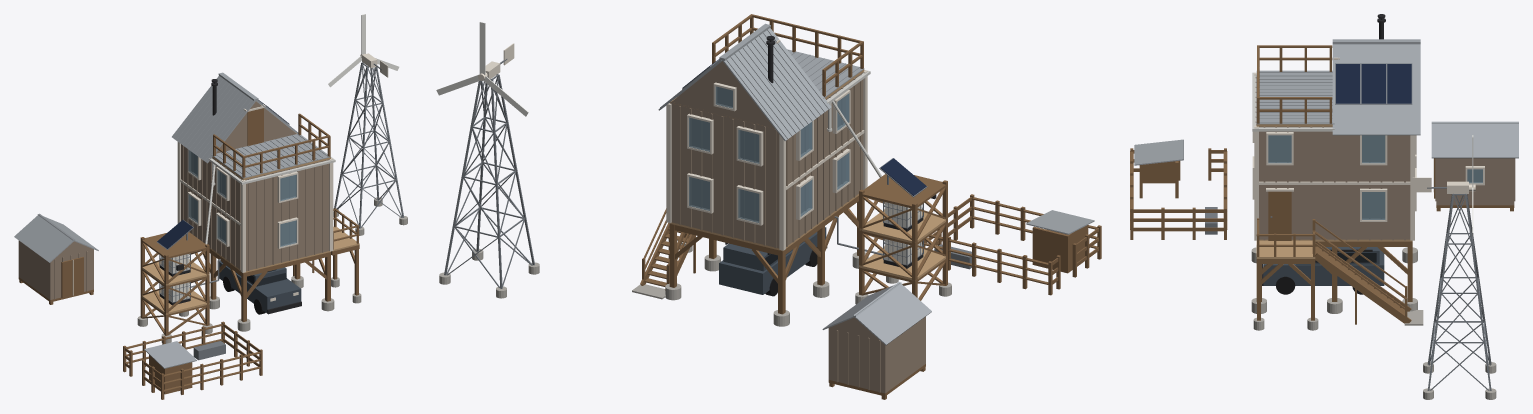
File: 1333-stilt-house.glb
The picture shows the model from 3 angles, left to right: view 1: azimuth 30°, elevation 25°; view 2: azimuth 150°, elevation 25°; view 3: azimuth 270°, elevation 25°; orthographic projection. The views are drawn at different scales.
Visible parts, largest first — view 1: envelope_siding, pen_timber, tower_timber, roof_metal, turbine_steel, envelope_trim, shed_siding, deck_metal, structure_timber, shed_metal, envelope_glass, car_car (+14 smaller); view 2: envelope_siding, roof_metal, pen_timber, envelope_trim, tower_timber, shed_siding, turbine_steel, envelope_glass, structure_timber, shed_metal, roof_siding, car_car (+11 smaller); view 3: envelope_siding, roof_metal, stairs_porch_timber, deck_metal, turbine_steel, pen_timber, shed_metal, shed_siding, solar_roof_solar, envelope_trim, envelope_glass, car_car (+11 smaller).
Part boxes in pixels (x1,y1,x2,y2): envelope_siding: (181, 144, 329, 270); pen_timber: (123, 321, 262, 399); tower_timber: (140, 232, 209, 335); roof_metal: (172, 72, 298, 163); turbine_steel: (334, 62, 404, 228); envelope_trim: (177, 142, 333, 272); shed_siding: (18, 240, 93, 299); deck_metal: (212, 134, 330, 178); structure_timber: (201, 249, 330, 321); shed_metal: (14, 213, 98, 262); envelope_glass: (188, 150, 296, 246); car_car: (219, 261, 301, 313); envelope_siding: (671, 72, 863, 248); roof_metal: (658, 23, 831, 140); pen_timber: (922, 194, 1101, 295); envelope_trim: (666, 70, 867, 250); tower_timber: (859, 174, 947, 300); shed_siding: (828, 316, 925, 393); turbine_steel: (444, 59, 534, 288); envelope_glass: (689, 93, 849, 222); structure_timber: (669, 196, 858, 314); shed_metal: (822, 282, 931, 345); roof_siding: (670, 61, 774, 128); car_car: (719, 227, 826, 294); envelope_siding: (1255, 76, 1410, 240); roof_metal: (1332, 39, 1420, 135); stairs_porch_timber: (1256, 218, 1411, 324); deck_metal: (1256, 70, 1334, 124); turbine_steel: (1427, 187, 1491, 390); pen_timber: (1130, 148, 1227, 239); shed_metal: (1431, 121, 1518, 158); shed_siding: (1435, 158, 1515, 205); solar_roof_solar: (1336, 64, 1411, 103); envelope_trim: (1252, 72, 1416, 240); envelope_glass: (1268, 135, 1385, 219); car_car: (1263, 247, 1384, 285).
Size of the model in its own units: 20.94 by 11.06 by 15.19.
